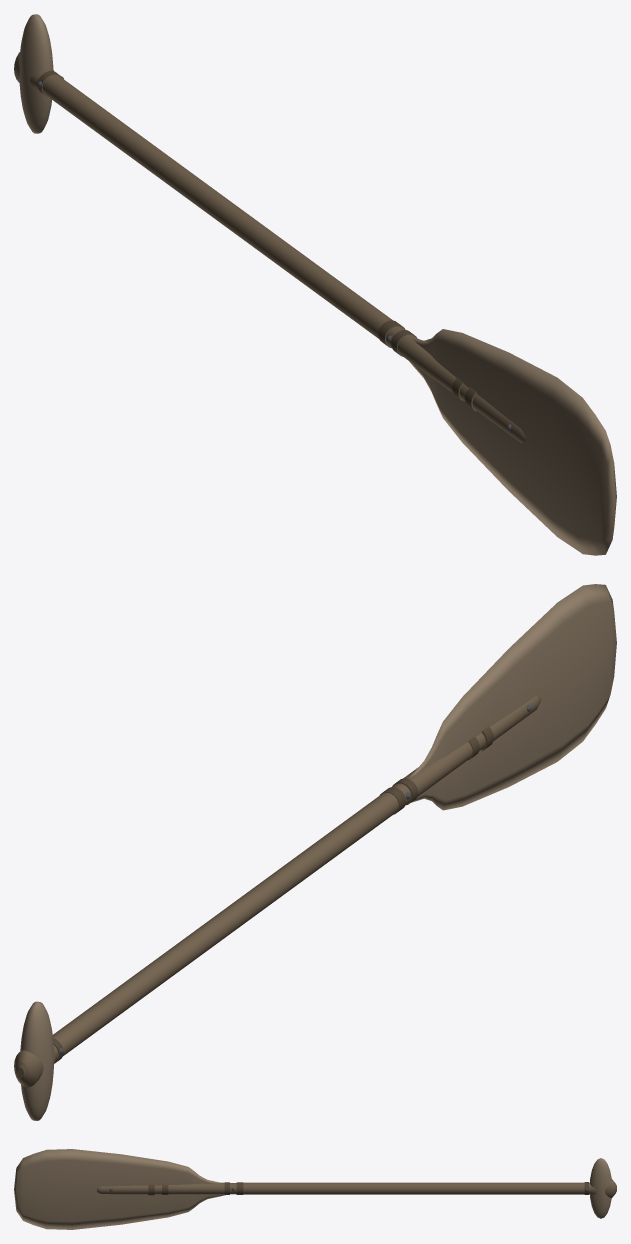
File: hallie_oar_brown_NEW.fbx
3 views of the same model, one above another, from view 1: azimuth 30°, elevation 25°; view 2: azimuth 150°, elevation 25°; view 3: azimuth 270°, elevation 25° (orthographic). The views are drawn at different scales.
Visible parts, largest first — view 1: oar_paddle, oar_body2; view 2: oar_paddle, oar_body2; view 3: oar_paddle, oar_body2.
Boxes of the visible parts, bbox=[...] form: oar_paddle: bbox=[409, 329, 616, 555]; oar_body2: bbox=[14, 14, 525, 442]; oar_paddle: bbox=[410, 584, 616, 810]; oar_body2: bbox=[14, 696, 540, 1120]; oar_paddle: bbox=[14, 1149, 225, 1229]; oar_body2: bbox=[97, 1158, 616, 1218].
Size of the model in its own units: 0.0494 by 0.2865 by 1.93.
